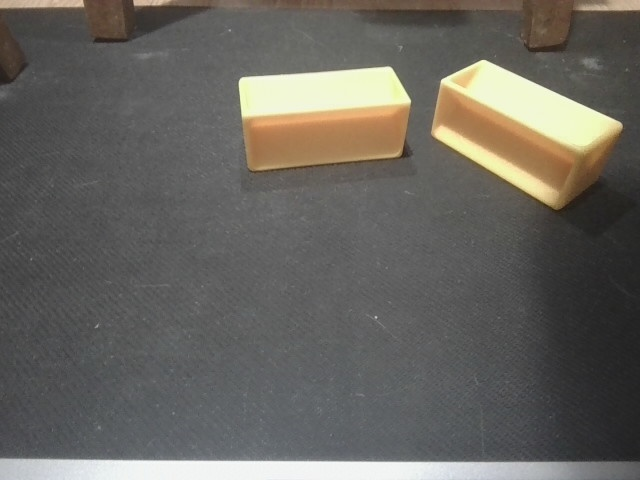YellowSample: (430, 56, 625, 214), (229, 63, 412, 174)
